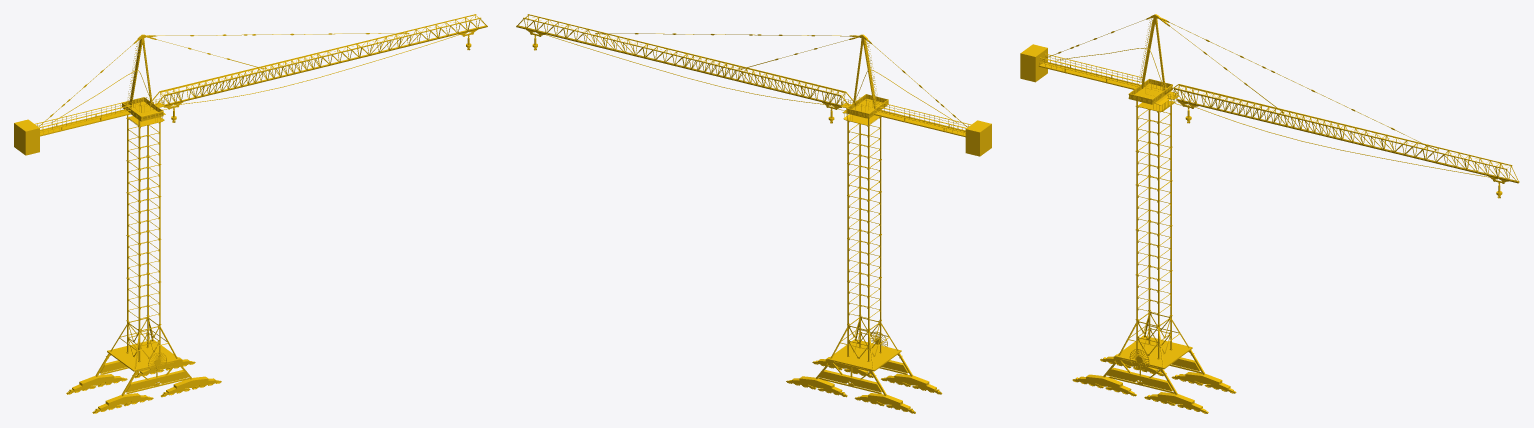
The model's file is TTC-27.glb.
3 views of the same model, side by side, from view 1: azimuth 30°, elevation 25°; view 2: azimuth 150°, elevation 25°; view 3: azimuth 330°, elevation 25° (orthographic). The views are drawn at different scales.
Parts seen in each view (by area): view 1: Plane.024, TTC-27; view 2: Plane.024, TTC-27; view 3: Plane.024, TTC-27.
Boxes of the visible parts, box(x1,y1,x2,y2) form: Plane.024: box(14, 14, 487, 155); TTC-27: box(66, 113, 221, 413); Plane.024: box(516, 14, 991, 156); TTC-27: box(786, 110, 942, 413); Plane.024: box(1020, 14, 1519, 198); TTC-27: box(1072, 91, 1236, 413).
Bounding box in the file's own units: 138 × 99.39 × 14.88.
